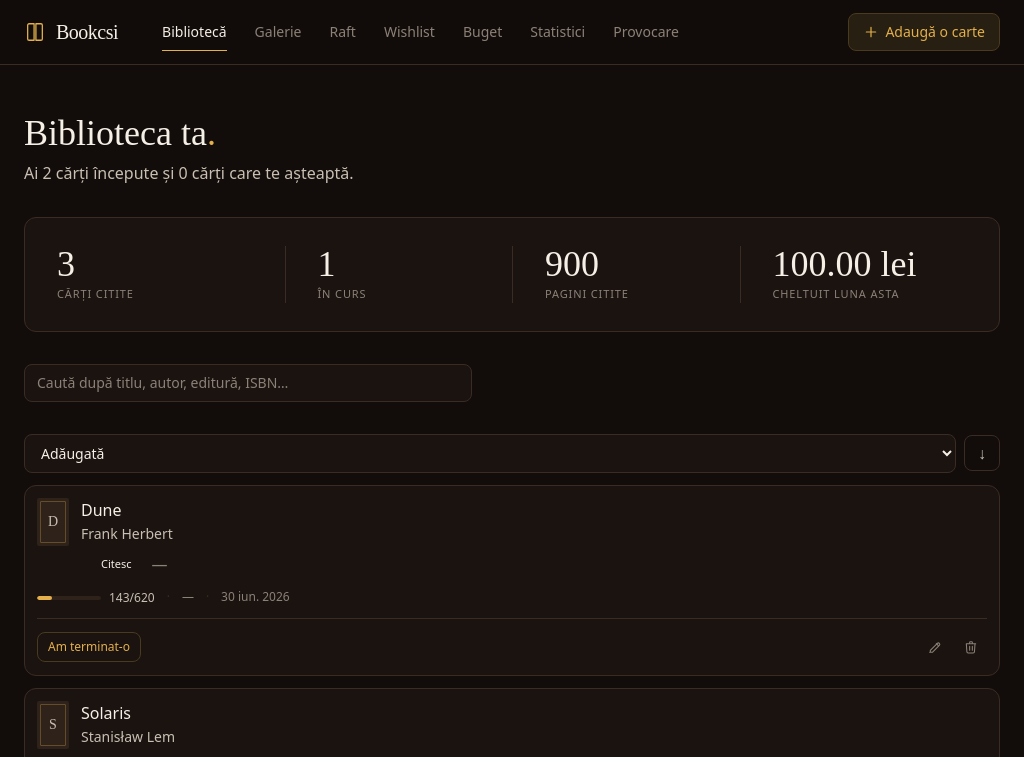
Test: LibraryPage — search (§D42) › says the search found nothing — not that the library is empty
expect the button "Dune" is shown: met, box [81,498,122,522]
Type "zzzz" into the search field named "Caută în bibliotecă" at (248, 382), box [24,364,472,402]
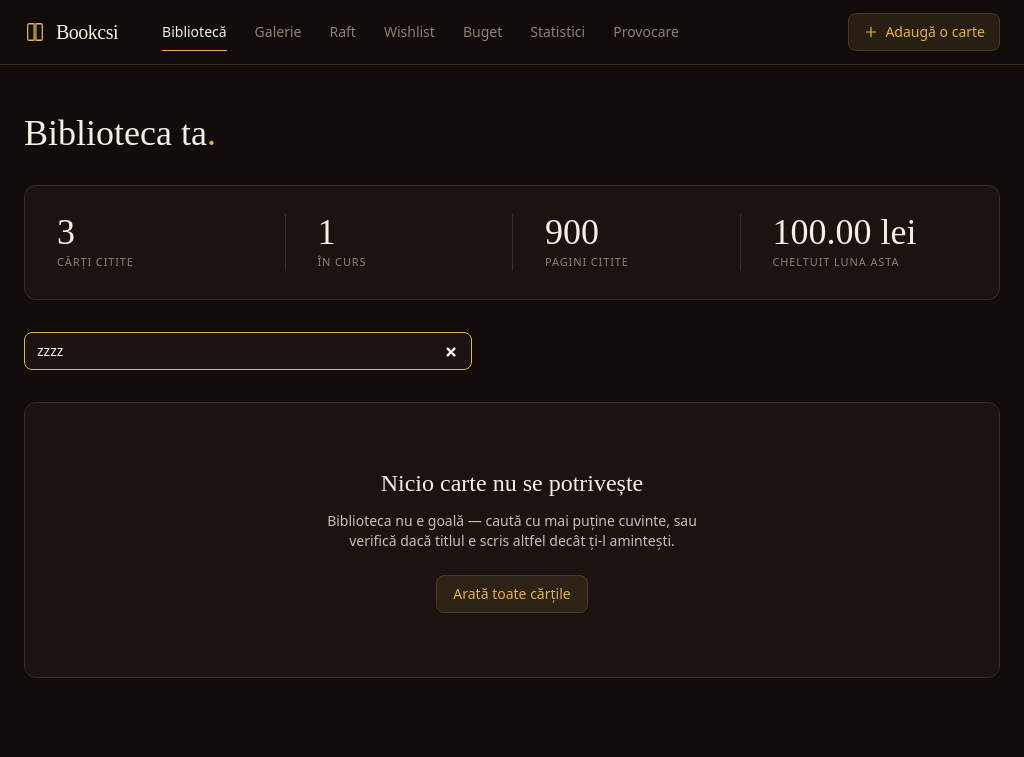
expect the text "Nicio carte nu se potrivește" is shown: met, box [381,470,643,496]
